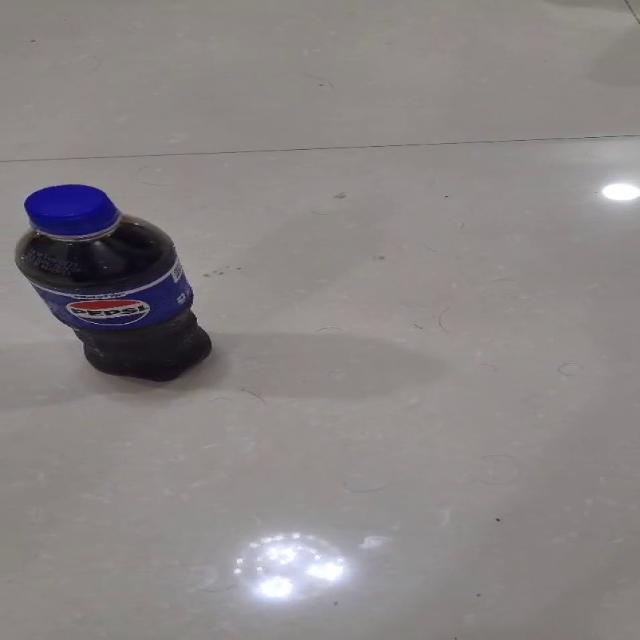plastic: (12, 183, 213, 382)
